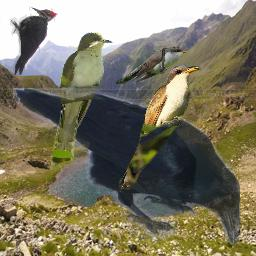Crow: (13, 88, 240, 244)
Cuckoo: (117, 63, 202, 192), (50, 32, 113, 173), (113, 46, 186, 84)
Woodpecker: (10, 6, 59, 75)
